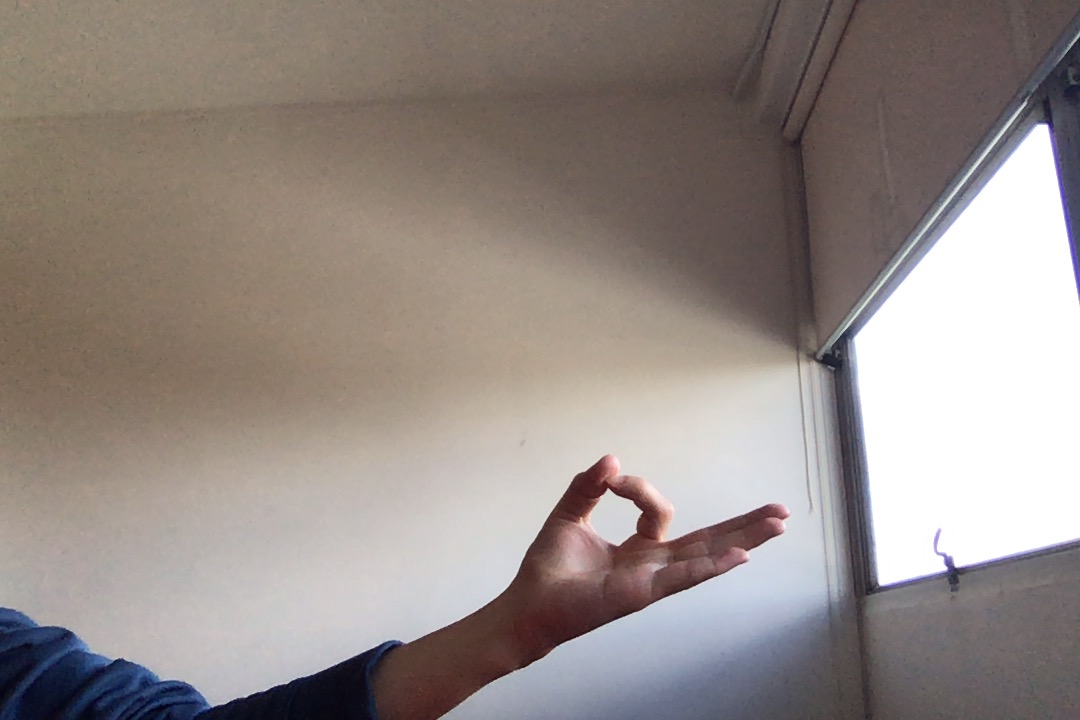oksign: (509, 451, 794, 637)
